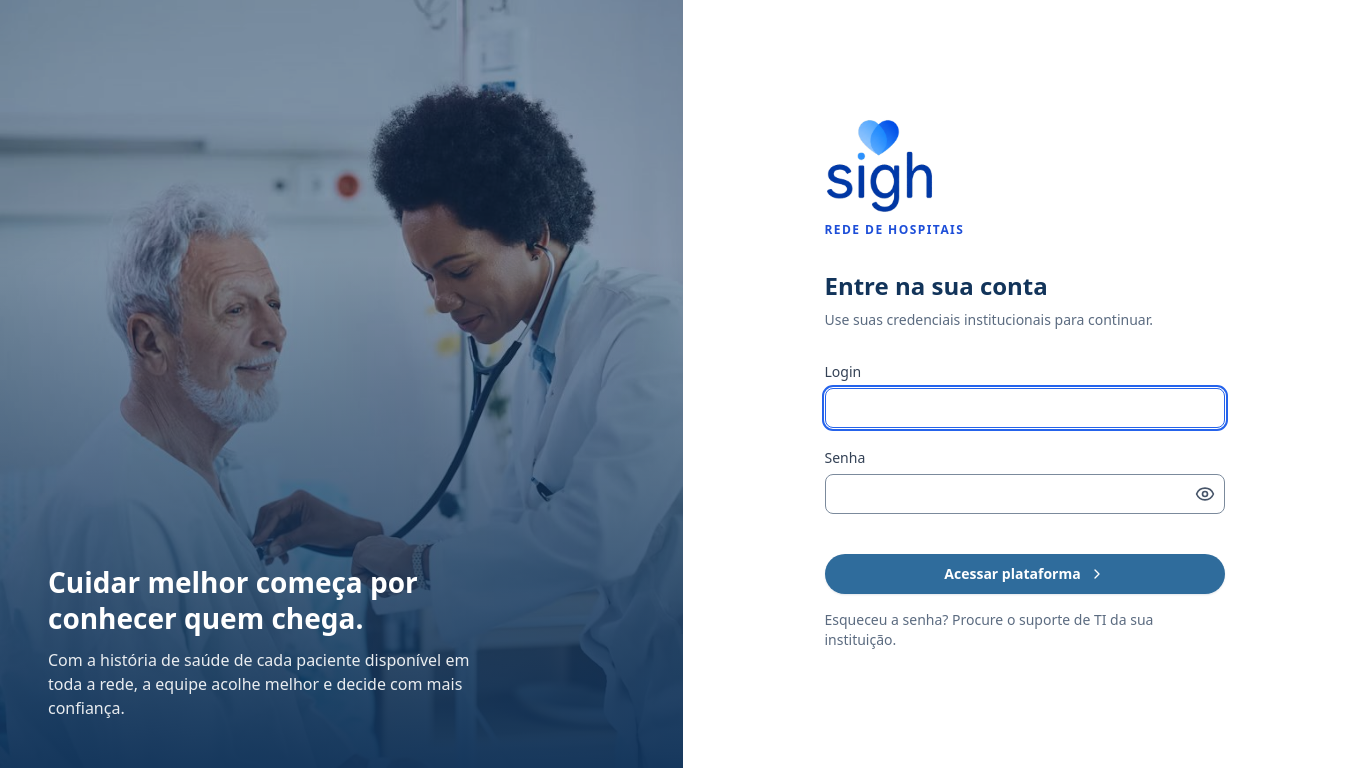
Test case: login › senha errada: alerta com a mensagem da API, senha limpa e nenhum token guardado
The image size is (1366, 768).
Type "adm" into the field labelled "Login".
click(1024, 408); type("adm")  # box top-left (824, 388), bottom-right (1224, 428)
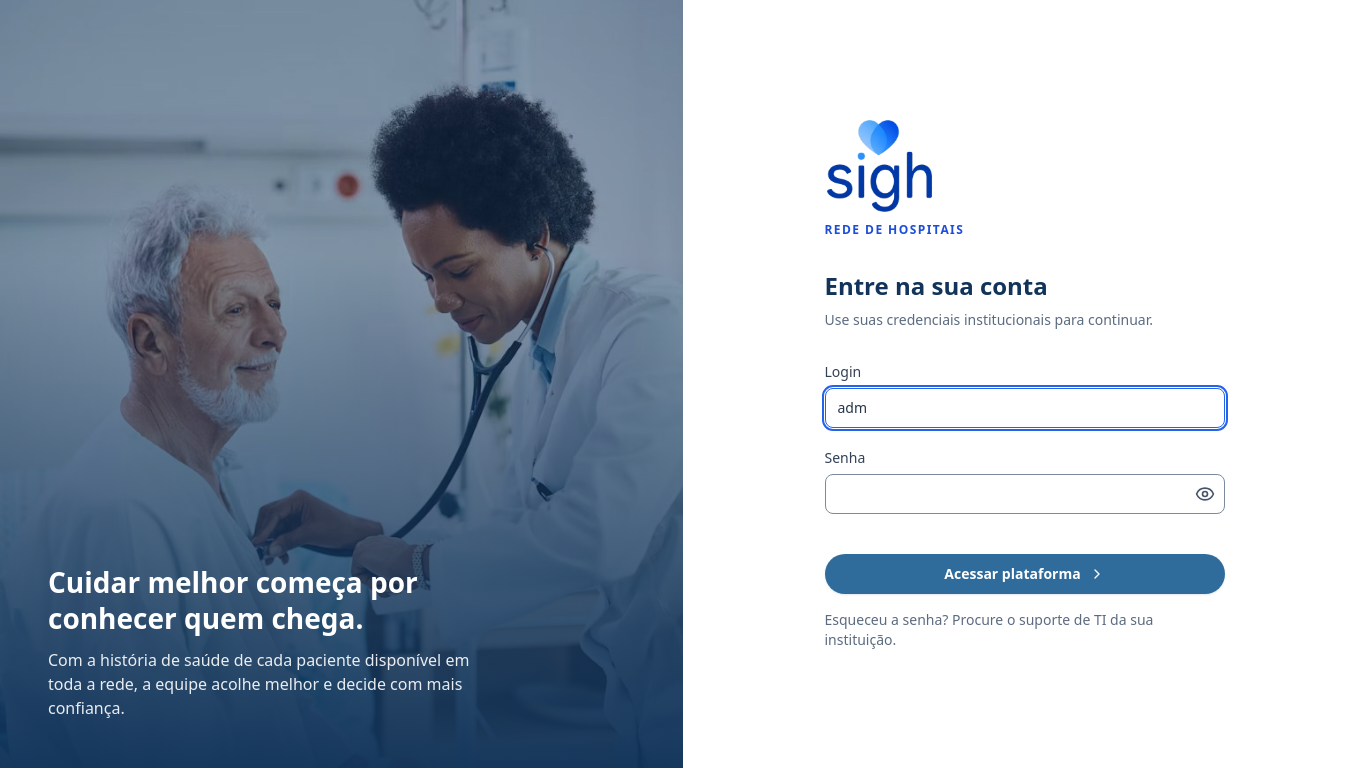
Type "errada" into the password field labelled "Senha".
click(1024, 494); type("errada")  # box top-left (824, 474), bottom-right (1224, 514)
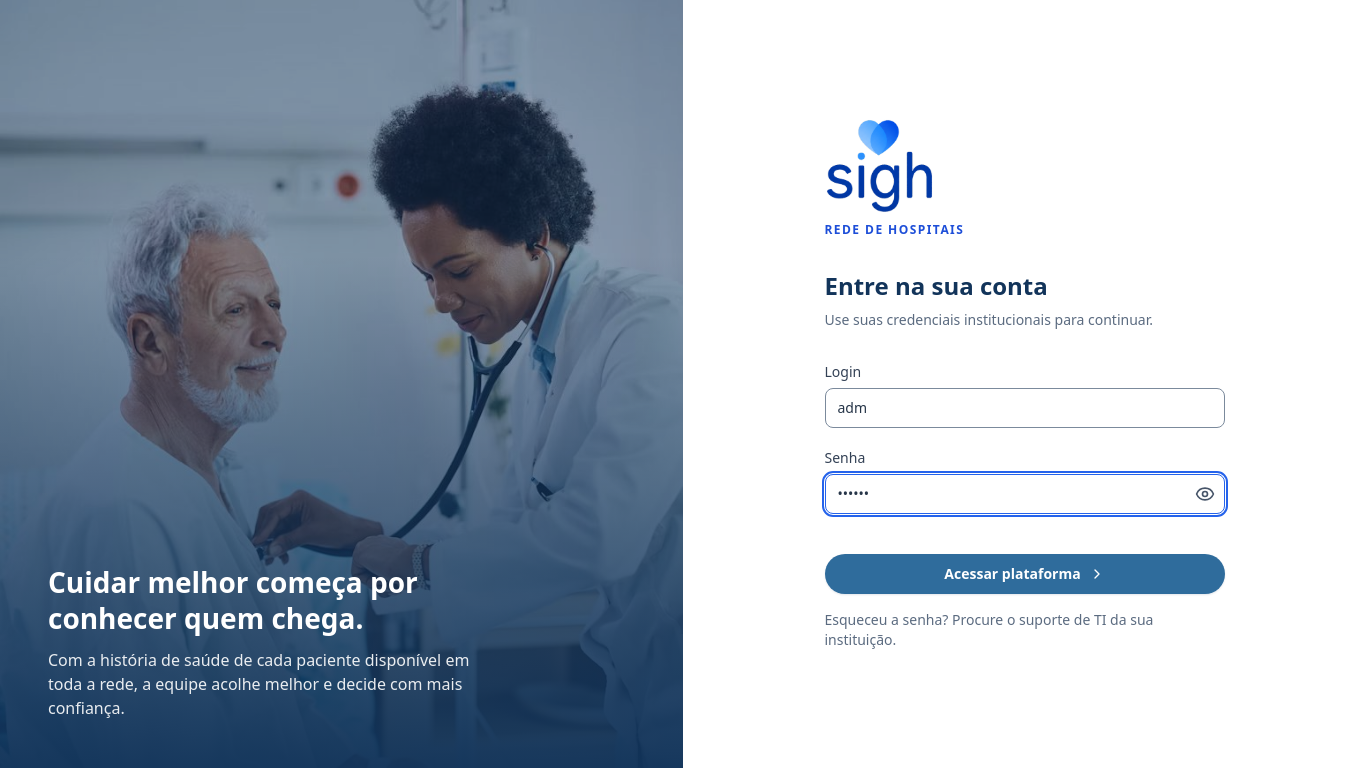
Click the button "Acessar plataforma".
click(1024, 574)  # box top-left (824, 554), bottom-right (1224, 594)
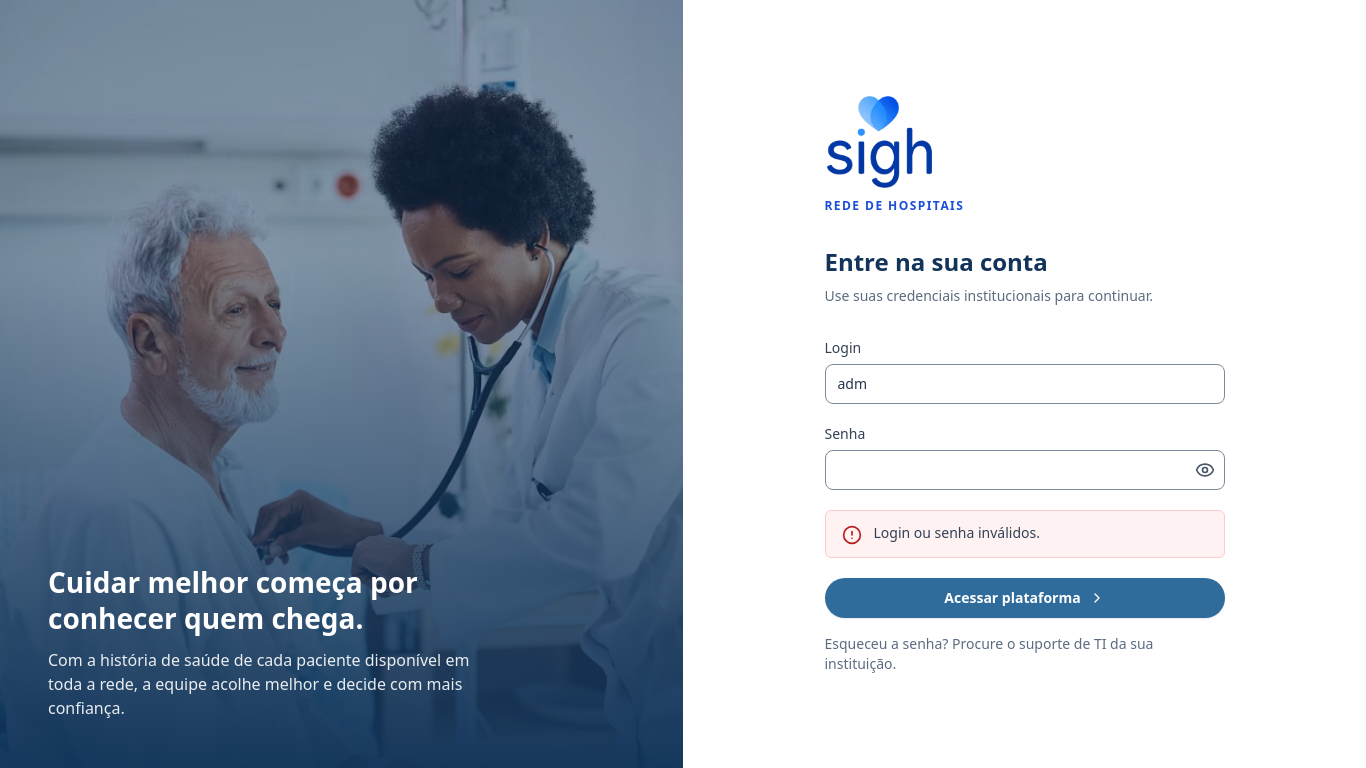
Now the text "Login ou senha inválidos." is shown, box top-left (874, 523), bottom-right (1040, 542)
Now the password field labelled "Senha" is empty, box top-left (824, 450), bottom-right (1224, 490)
